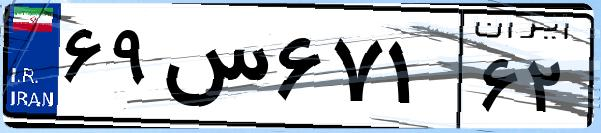1: (385, 28, 445, 110)
2: (525, 38, 570, 115)
6: (270, 28, 330, 110), (57, 26, 110, 100), (475, 38, 525, 113)
7: (330, 28, 385, 110)
9: (110, 28, 158, 98)
س: (158, 20, 270, 120)
